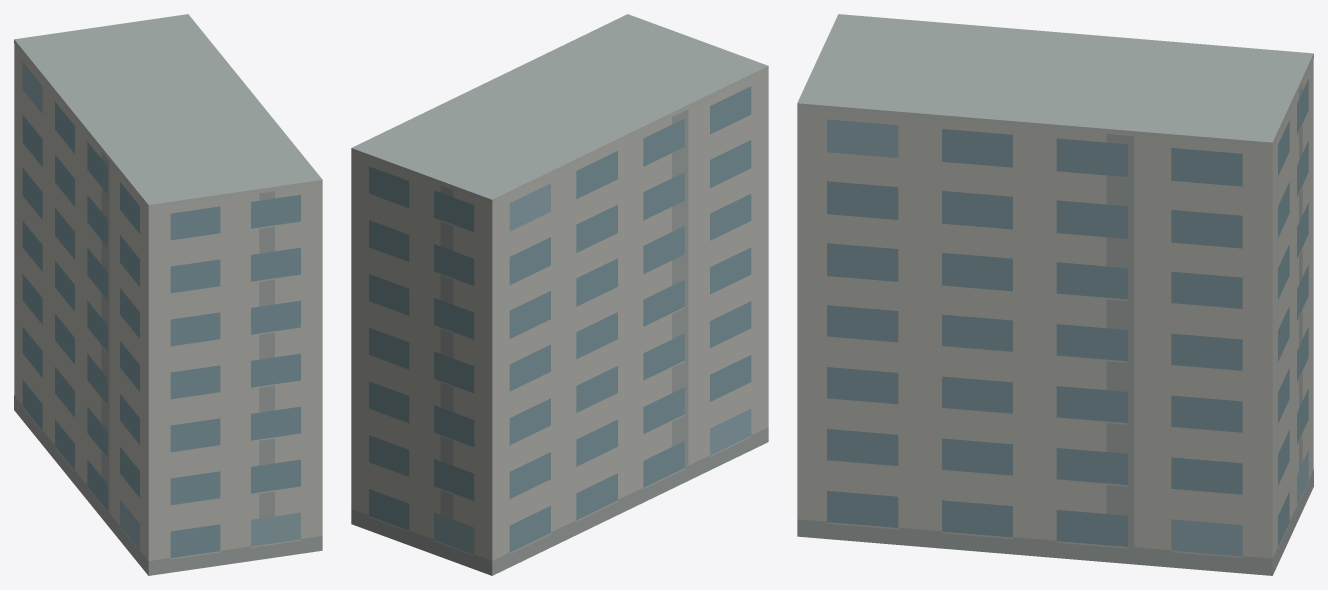
File: survey-upis-32786203.glb
The picture shows the model from 3 angles, left to right: view 1: azimuth 30°, elevation 25°; view 2: azimuth 150°, elevation 25°; view 3: azimuth 270°, elevation 25°; orthographic projection. The views are drawn at different scales.
Parts seen in each view (by area): view 1: survey-upis-32786203.tmp; view 2: survey-upis-32786203.tmp; view 3: survey-upis-32786203.tmp.
Boxes of the visible parts, left/top/right/bottom form: survey-upis-32786203.tmp: left=14, top=14, right=322, bottom=575; survey-upis-32786203.tmp: left=351, top=14, right=768, bottom=575; survey-upis-32786203.tmp: left=797, top=14, right=1313, bottom=575.
Size of the model in its own units: 12.93 by 20.3 by 21.95.
